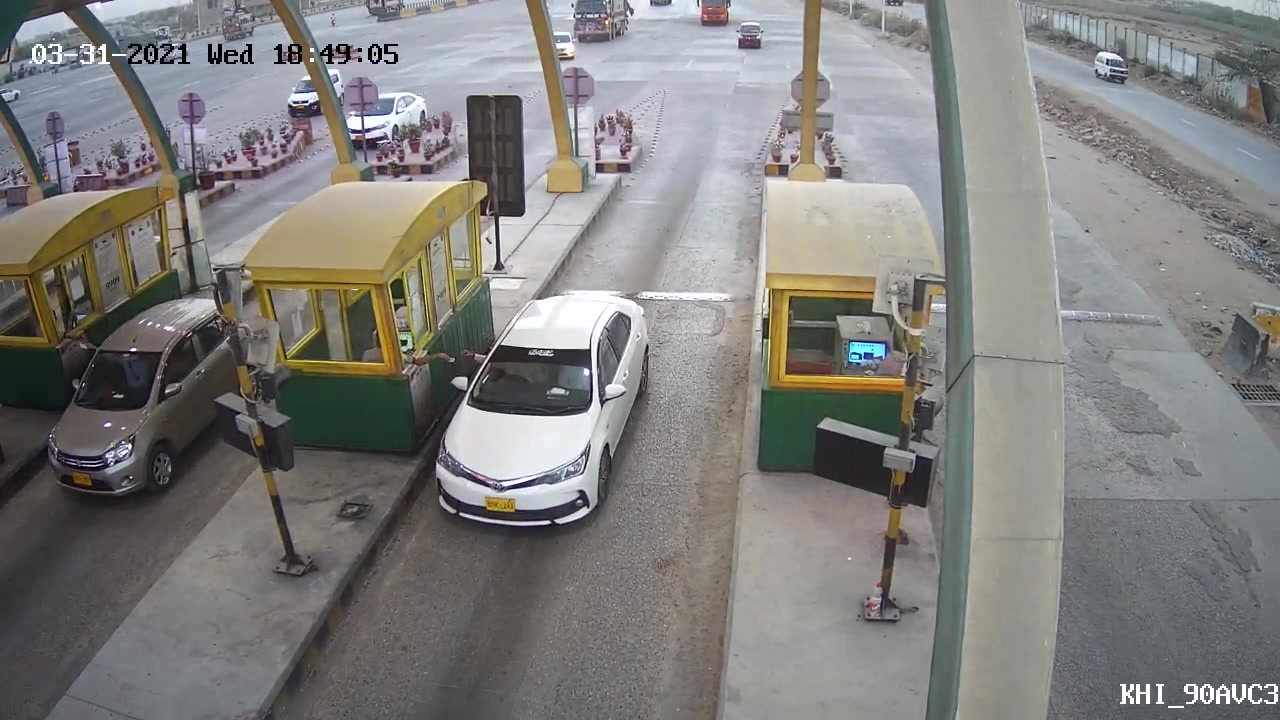F1: (416, 279, 672, 547)
